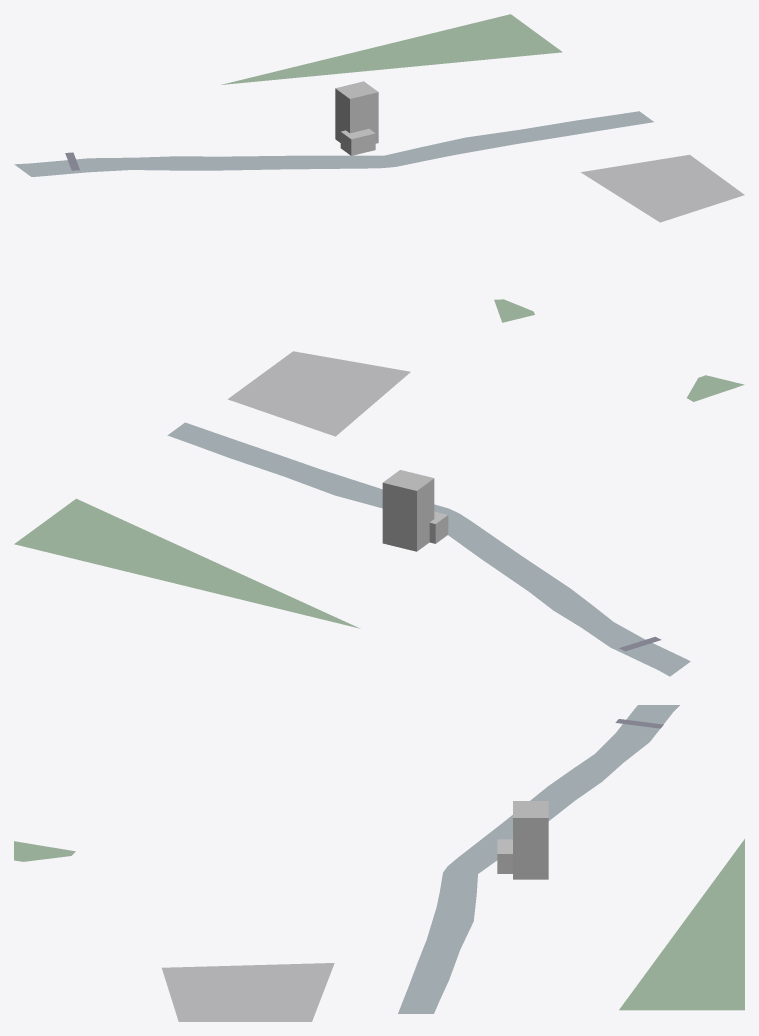
The model's file is 122_120_mid.glb.
3 renders of one model, top to bottom at view 1: azimuth 30°, elevation 25°; view 2: azimuth 150°, elevation 25°; view 3: azimuth 270°, elevation 25°, orthographic. The views are drawn at different scales.
Size of the model in its own units: 500 by 54.32 by 500.
